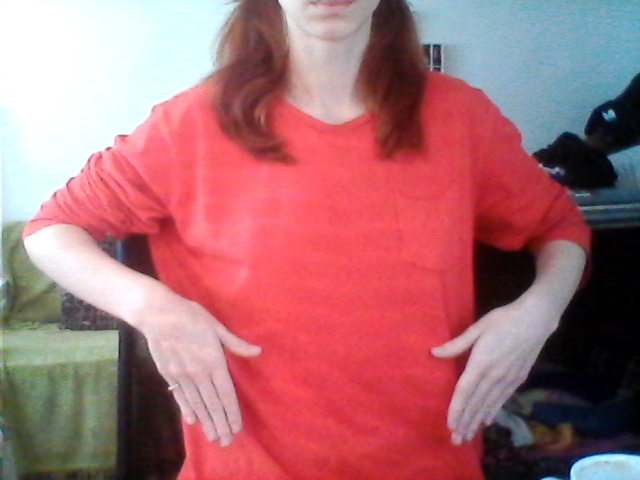zena: (136, 265, 513, 458)
